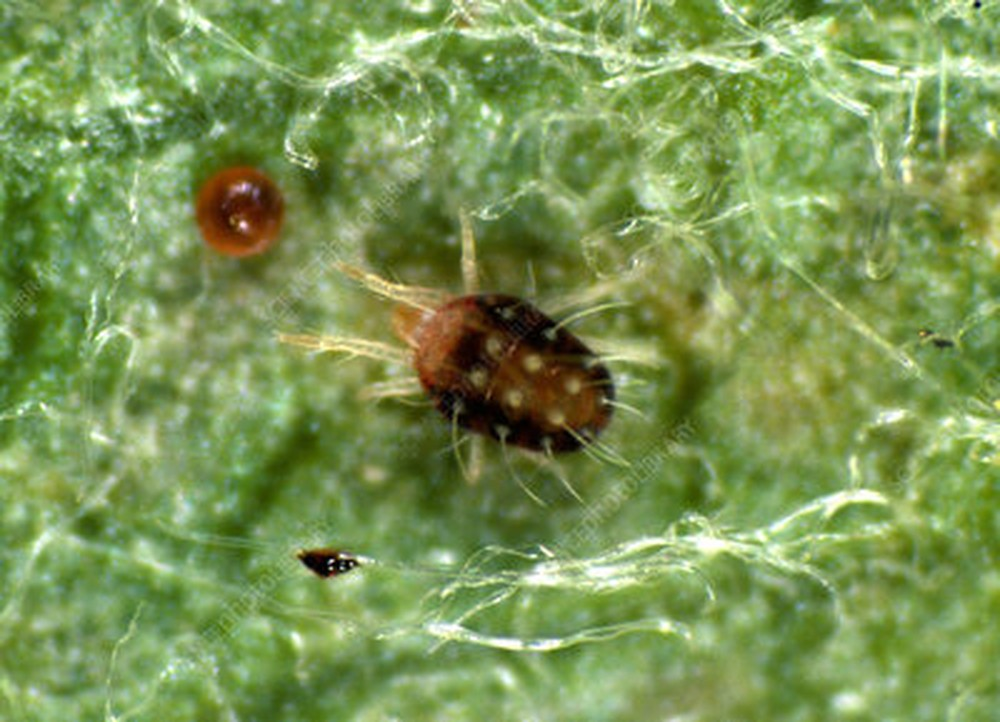Aracnido Rojo: (297, 205, 650, 499)
